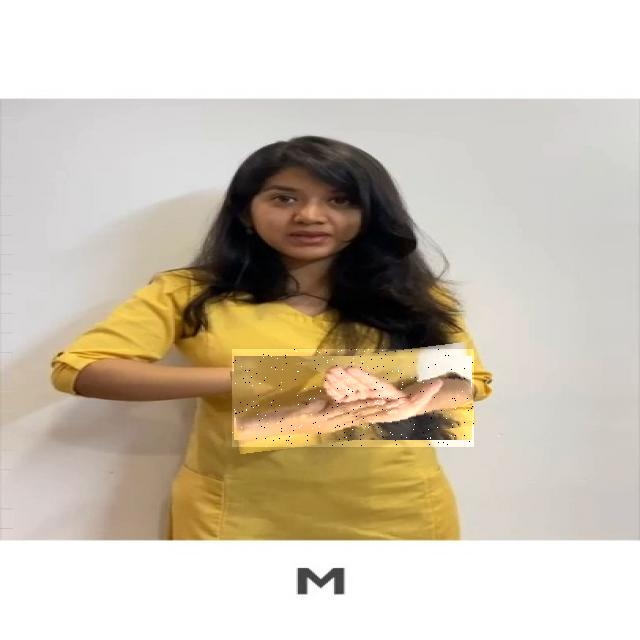M: (232, 349, 474, 447)
